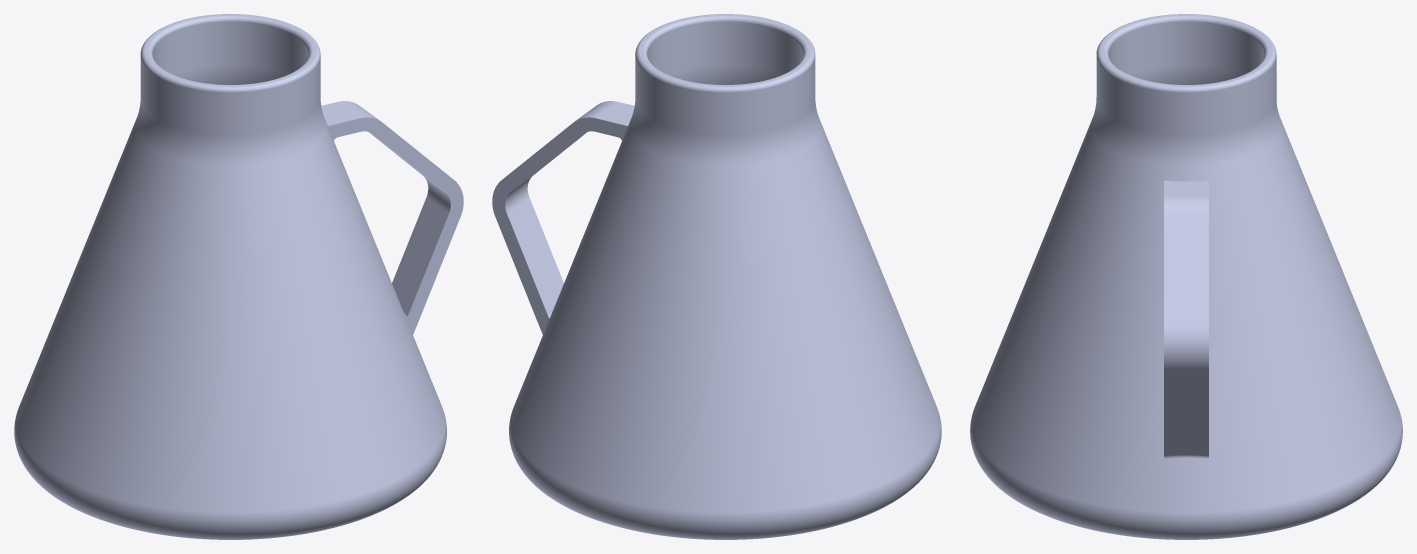
The model's file is Jarra.fbx.
3 views of the same model, side by side, from view 1: azimuth 30°, elevation 25°; view 2: azimuth 150°, elevation 25°; view 3: azimuth 270°, elevation 25° (orthographic).
Visible parts, largest first — view 1: Jarra; view 2: Jarra; view 3: Jarra.
Part boxes in pixels (x1,y1,x2,y2): Jarra: (14,14,463,539); Jarra: (492,14,941,539); Jarra: (970,14,1402,539).
Bounding box in the file's own units: 315 × 300 × 288.
